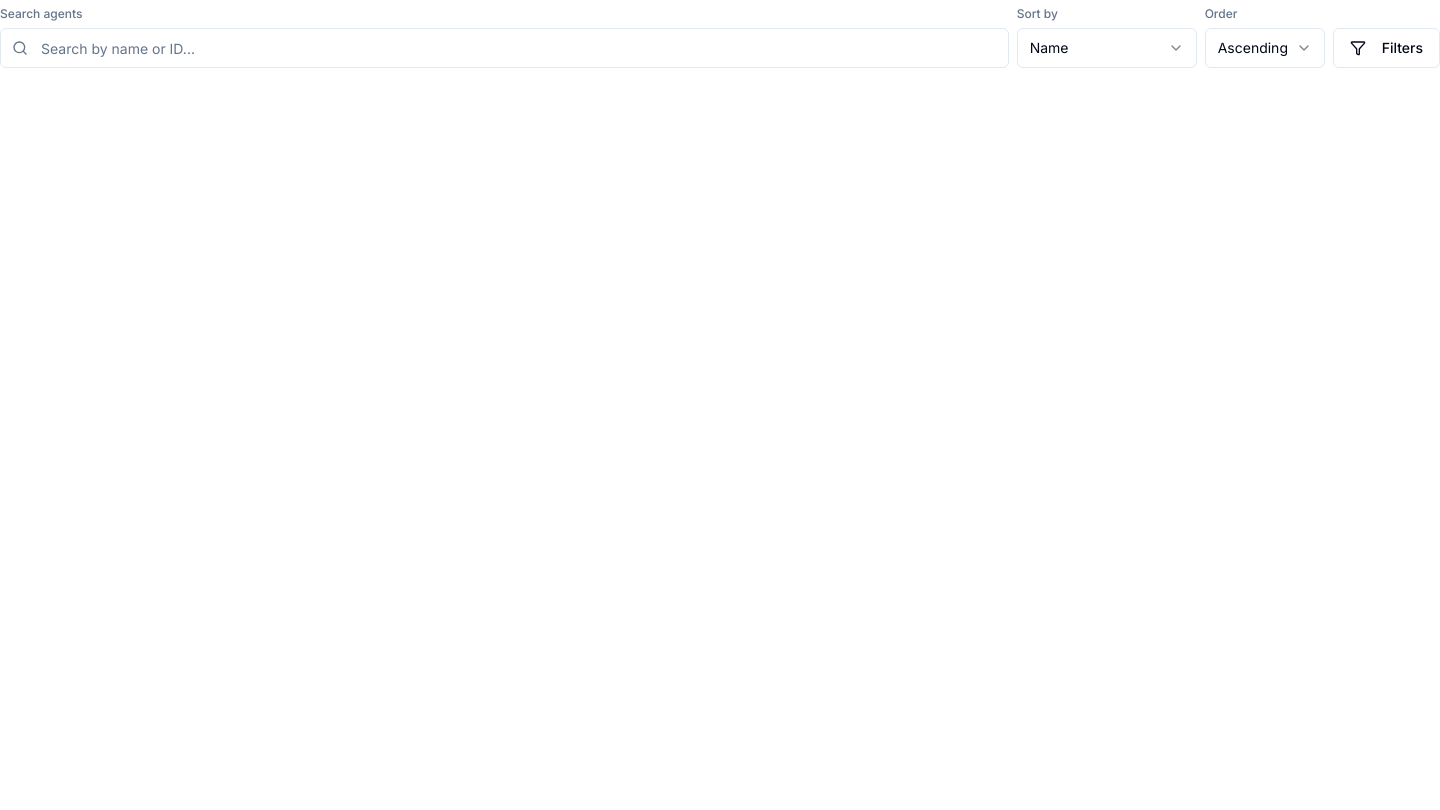
Test: TrustAwareAgentSearch › shows advanced filters popup with trust status checkboxes
The width and height of the screenshot is (1440, 810).
Click the button "Filters" at (1386, 48), box [1333,28,1439,68]
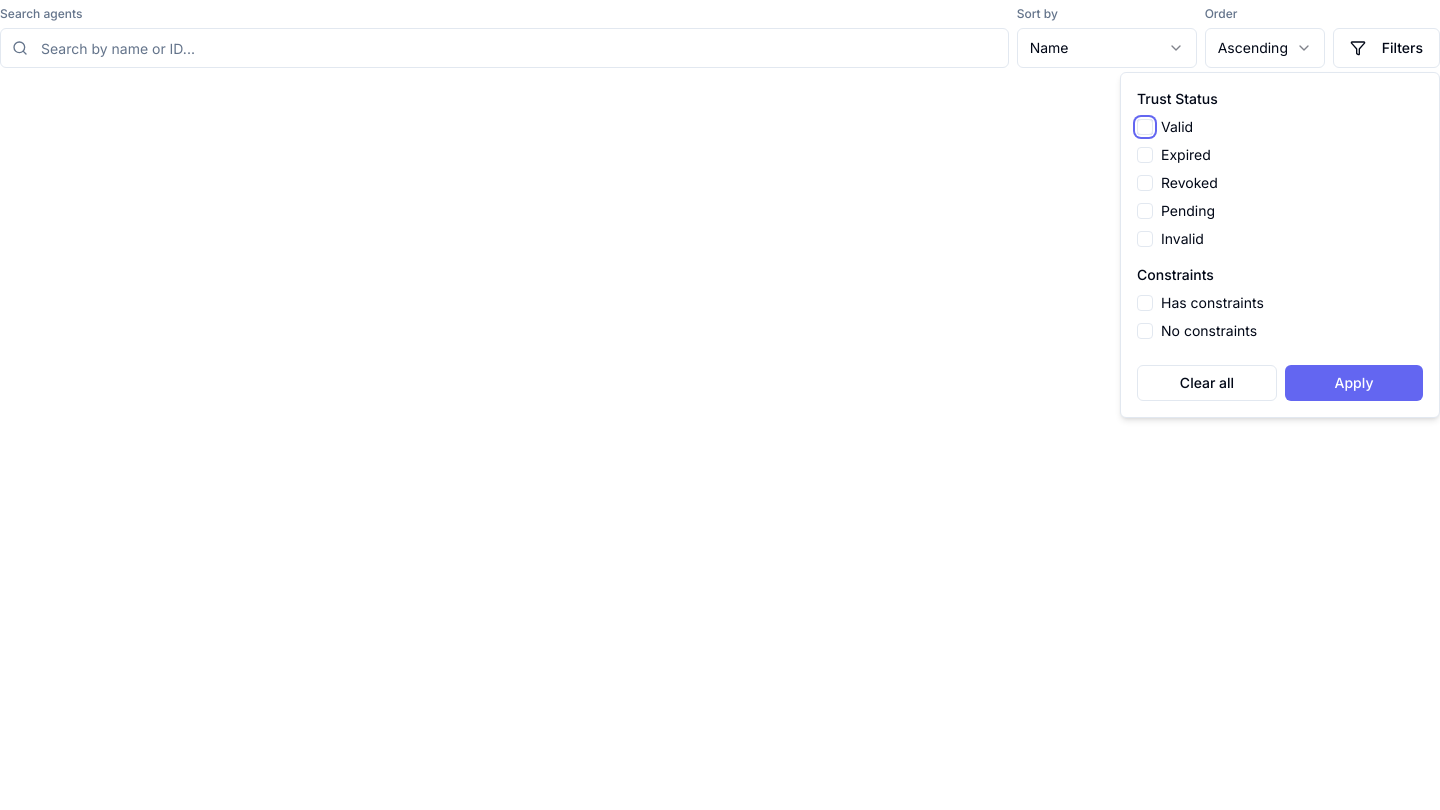
Expected: the heading "Trust Status" is shown, [1137,90,1218,107]
Expected: the text "Valid" is shown, [1161,117,1193,137]
Expected: the text "Expired" is shown, [1161,145,1211,165]
